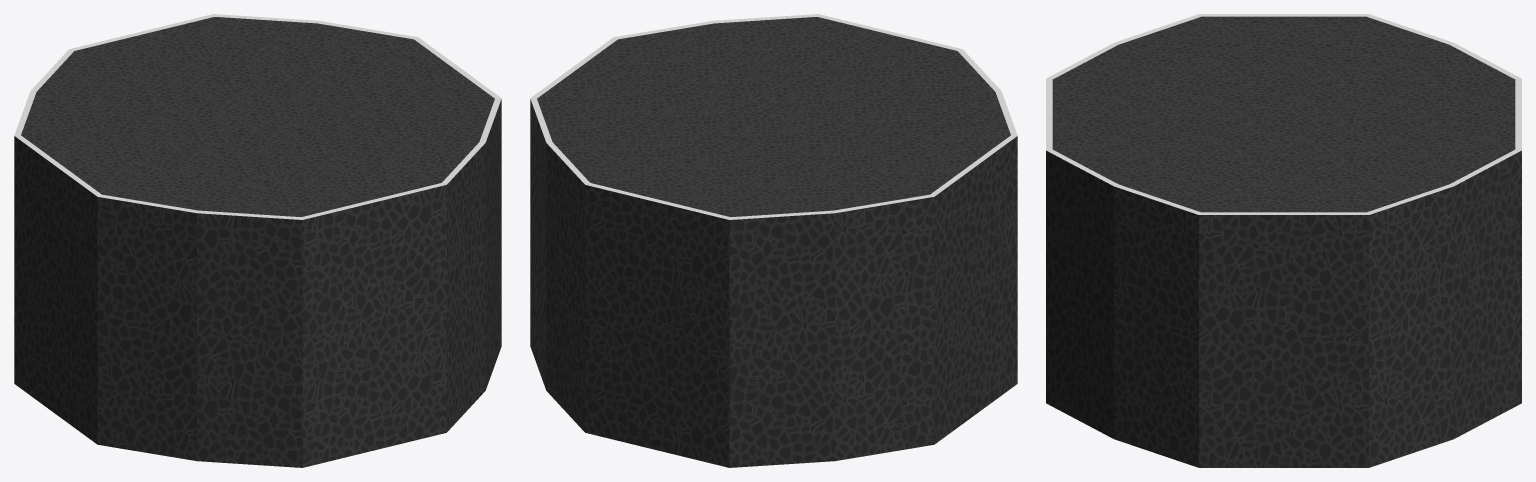
File: dungeon1.fbx
The picture shows the model from 3 angles, left to right: view 1: azimuth 30°, elevation 25°; view 2: azimuth 150°, elevation 25°; view 3: azimuth 270°, elevation 25°; orthographic projection.
Parts seen in each view (by area): view 1: Cube; view 2: Cube; view 3: Cube.
Part boxes in pixels (x1,y1,x2,y2): Cube: (14,14,501,467); Cube: (530,14,1017,467); Cube: (1046,14,1521,467).
Bounding box in the file's own units: 7000 × 4104 × 7000.
